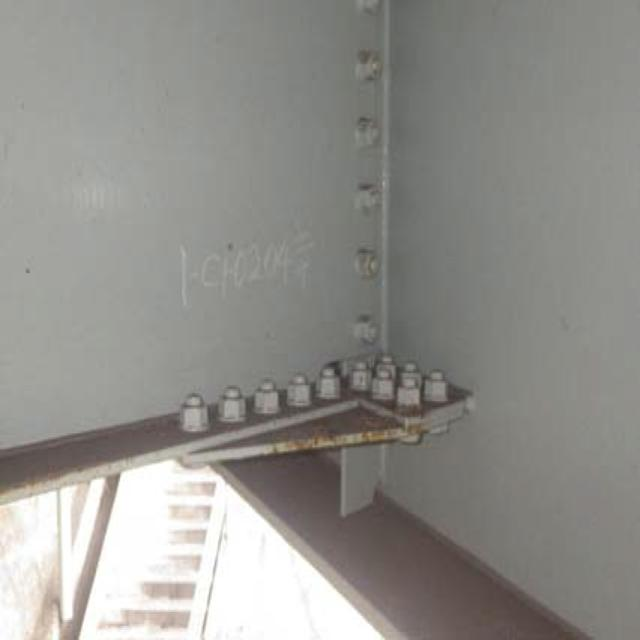corrosion: (218, 384, 458, 460)
